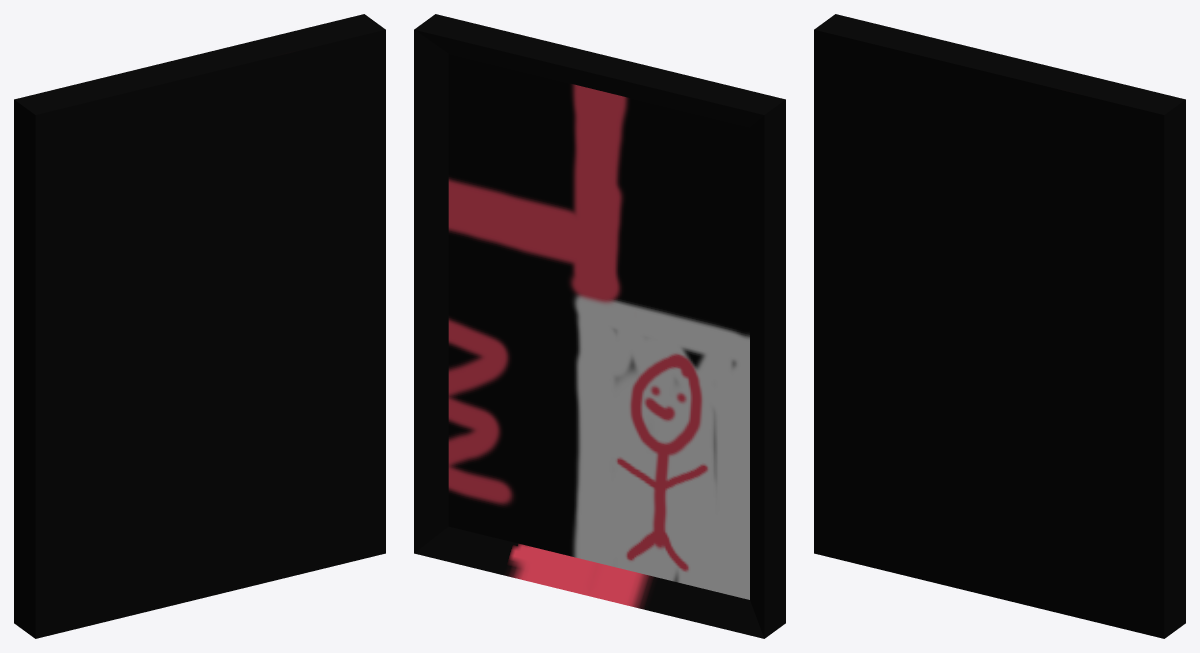
Rendered from Picture.fbx.
3 renders of one model, left to right at view 1: azimuth 30°, elevation 25°; view 2: azimuth 150°, elevation 25°; view 3: azimuth 330°, elevation 25°, orthographic.
Visible parts, largest first — view 1: Cube; view 2: Cube; view 3: Cube.
Boxes of the visible parts, x1,y1,x2,y2 form: Cube: (14,14,385,638); Cube: (414,14,785,638); Cube: (814,14,1185,638).
Bounding box in the file's own units: 62.77 × 89.68 × 6.65.
